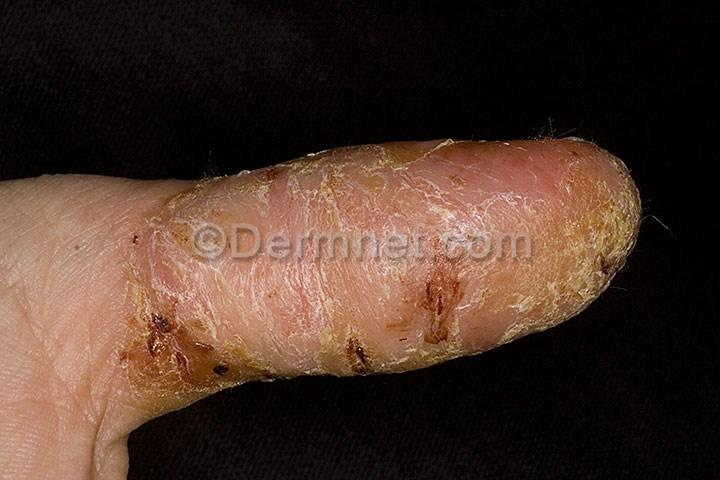Eczema: (414, 223, 542, 308), (267, 213, 364, 320), (127, 308, 252, 389), (199, 194, 294, 298), (116, 243, 211, 343), (334, 217, 429, 316), (231, 286, 315, 383), (284, 312, 429, 367), (401, 141, 492, 222), (491, 142, 558, 237), (325, 150, 407, 222), (163, 212, 231, 298), (558, 145, 614, 247), (127, 205, 201, 267), (273, 164, 345, 221), (415, 311, 501, 348), (153, 180, 225, 221), (533, 239, 625, 271), (516, 261, 609, 290), (206, 182, 278, 217), (503, 280, 587, 310), (605, 167, 630, 248), (457, 306, 576, 323), (234, 167, 281, 197), (625, 186, 641, 240)
